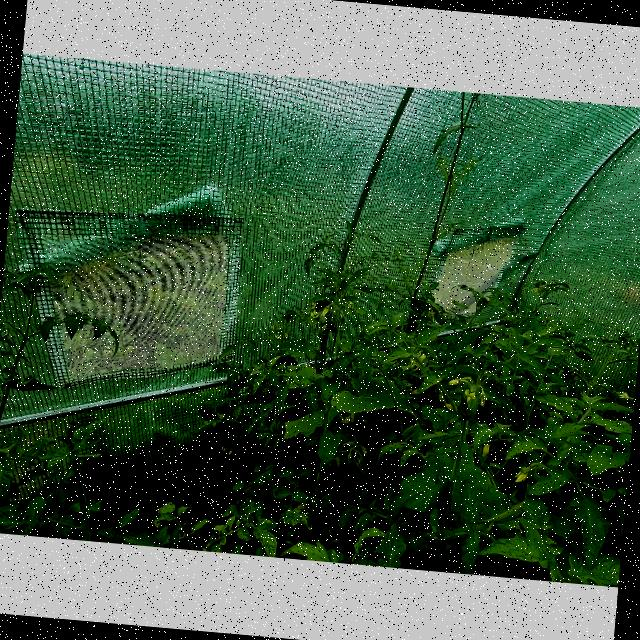Flowers: (408, 350, 424, 369), (512, 470, 528, 484), (308, 300, 318, 321), (464, 389, 476, 404), (532, 285, 547, 295)
